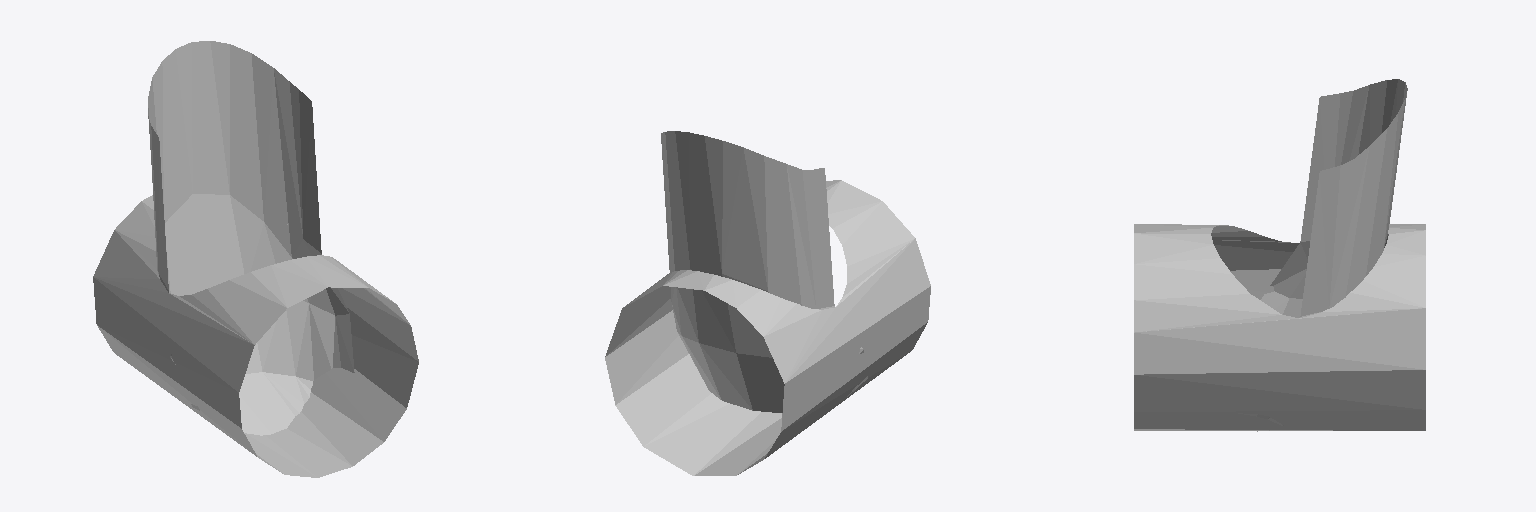
Rendered from cylinder_out_clean.obj.
The picture shows the model from 3 angles: view 1: azimuth 30°, elevation 25°; view 2: azimuth 150°, elevation 25°; view 3: azimuth 270°, elevation 25°; orthographic projection.
Parts seen in each view (by area): view 1: out.001; view 2: out.001; view 3: out.001.
Part boxes in pixels (bbox=[...]): out.001: bbox=[93, 41, 418, 477]; out.001: bbox=[605, 131, 930, 475]; out.001: bbox=[1134, 79, 1425, 431].
Size of the model in its own units: 2.34 by 4.15 by 3.29.